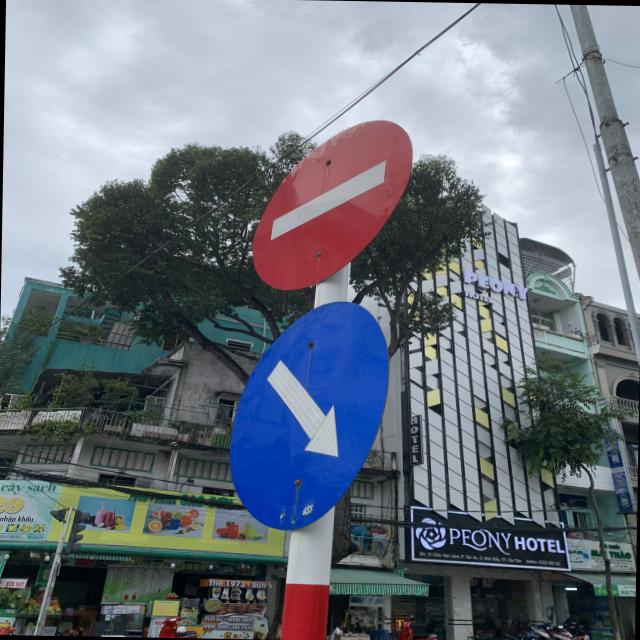Cam_Di_Nguoc_Chieu: (252, 118, 412, 294)
Chi_Huong_Di_Phai: (224, 306, 393, 527)
